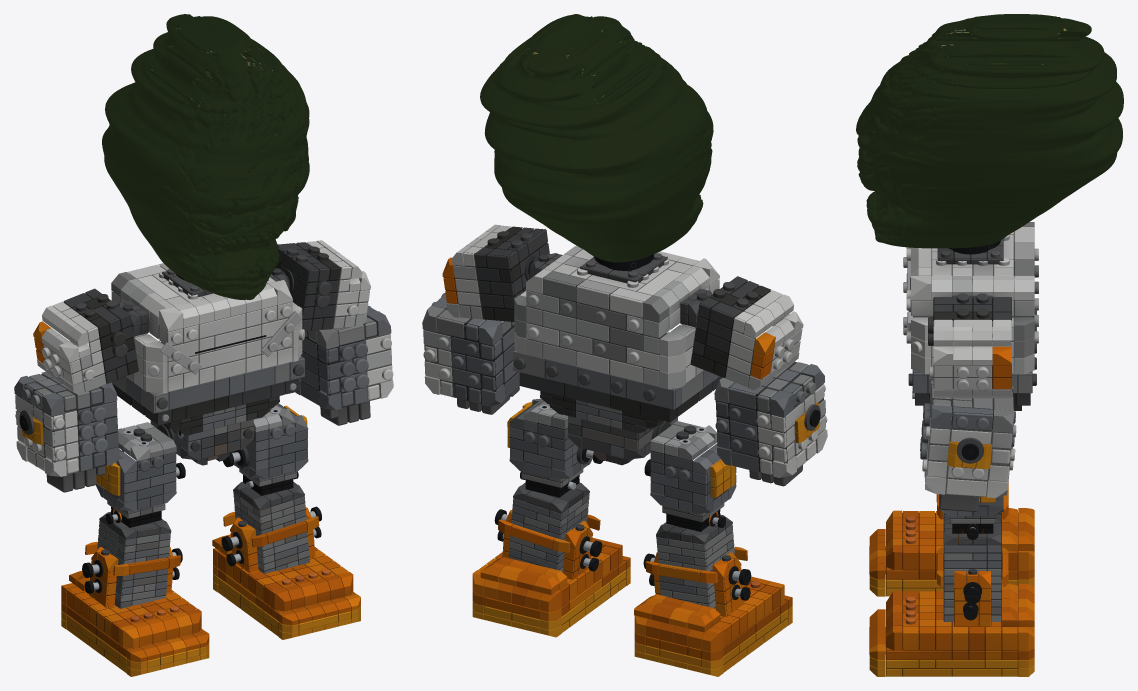
File: pixel-mech-zver.glb
3 renders of one model, left to right at view 1: azimuth 30°, elevation 25°; view 2: azimuth 150°, elevation 25°; view 3: azimuth 270°, elevation 25°, orthographic. The views are drawn at different scales.
Parts seen in each view (by area): view 1: zver_kontur, korpus_plastic, rukaL_naruch_plastic, stupnyaL_plastic, stupnyaR_plastic, rukaL_plastic, rukaR_naruch_plastic, rukaR_plastic, nogaL_plastic, nogaR_plastic, nogaL_golen_plastic, nogaR_golen_plastic (+5 smaller); view 2: zver_kontur, korpus_plastic, rukaL_naruch_plastic, stupnyaL_plastic, rukaL_plastic, stupnyaR_plastic, rukaR_naruch_plastic, rukaR_plastic, nogaL_plastic, nogaR_plastic, nogaR_golen_plastic, nogaL_golen_plastic (+5 smaller); view 3: zver_kontur, korpus_plastic, stupnyaR_plastic, rukaR_naruch_plastic, rukaR_plastic, stupnyaL_plastic, nogaR_golen_plastic, stupnyaR_manzhet_plastic, nogaR_plastic, rukaR_naruch_metal, stupnyaR_manzhet_metal.
Part boxes in pixels (x1=…): zver_kontur: x1=102, y1=14, x2=309, y2=299; korpus_plastic: x1=111, y1=263, x2=305, y2=435; rukaL_naruch_plastic: x1=14, y1=371, x2=119, y2=492; stupnyaL_plastic: x1=61, y1=570, x2=209, y2=676; stupnyaR_plastic: x1=212, y1=534, x2=360, y2=639; rukaL_plastic: x1=33, y1=288, x2=138, y2=393; rukaR_naruch_plastic: x1=295, y1=305, x2=393, y2=425; rukaR_plastic: x1=275, y1=240, x2=370, y2=331; nogaL_plastic: x1=96, y1=422, x2=176, y2=527; nogaR_plastic: x1=231, y1=403, x2=308, y2=495; nogaL_golen_plastic: x1=97, y1=512, x2=171, y2=608; nogaR_golen_plastic: x1=233, y1=481, x2=309, y2=575; zver_kontur: x1=480, y1=14, x2=713, y2=262; korpus_plastic: x1=513, y1=245, x2=722, y2=433; rukaL_naruch_plastic: x1=714, y1=361, x2=827, y2=486; stupnyaL_plastic: x1=634, y1=576, x2=792, y2=676; rukaL_plastic: x1=690, y1=276, x2=803, y2=390; stupnyaR_plastic: x1=472, y1=538, x2=630, y2=637; rukaR_naruch_plastic: x1=422, y1=293, x2=519, y2=414; rukaR_plastic: x1=442, y1=224, x2=549, y2=321; nogaL_plastic: x1=650, y1=421, x2=736, y2=531; nogaR_plastic: x1=507, y1=398, x2=592, y2=497; nogaR_golen_plastic: x1=508, y1=482, x2=589, y2=572; nogaL_golen_plastic: x1=656, y1=514, x2=734, y2=609; zver_kontur: x1=856, y1=14, x2=1123, y2=248; korpus_plastic: x1=903, y1=222, x2=1038, y2=410; stupnyaR_plastic: x1=869, y1=584, x2=1034, y2=676; rukaR_naruch_plastic: x1=920, y1=380, x2=1016, y2=511; rukaR_plastic: x1=928, y1=293, x2=1011, y2=398; stupnyaL_plastic: x1=869, y1=508, x2=1034, y2=596; nogaR_golen_plastic: x1=943, y1=519, x2=1001, y2=622; stupnyaR_manzhet_plastic: x1=936, y1=547, x2=1008, y2=626; nogaR_plastic: x1=942, y1=426, x2=1003, y2=535; rukaR_naruch_metal: x1=956, y1=389, x2=983, y2=463; stupnyaR_manzhet_metal: x1=963, y1=582, x2=981, y2=620.
Size of the model in its own units: 21.93 by 32.84 by 12.95.
